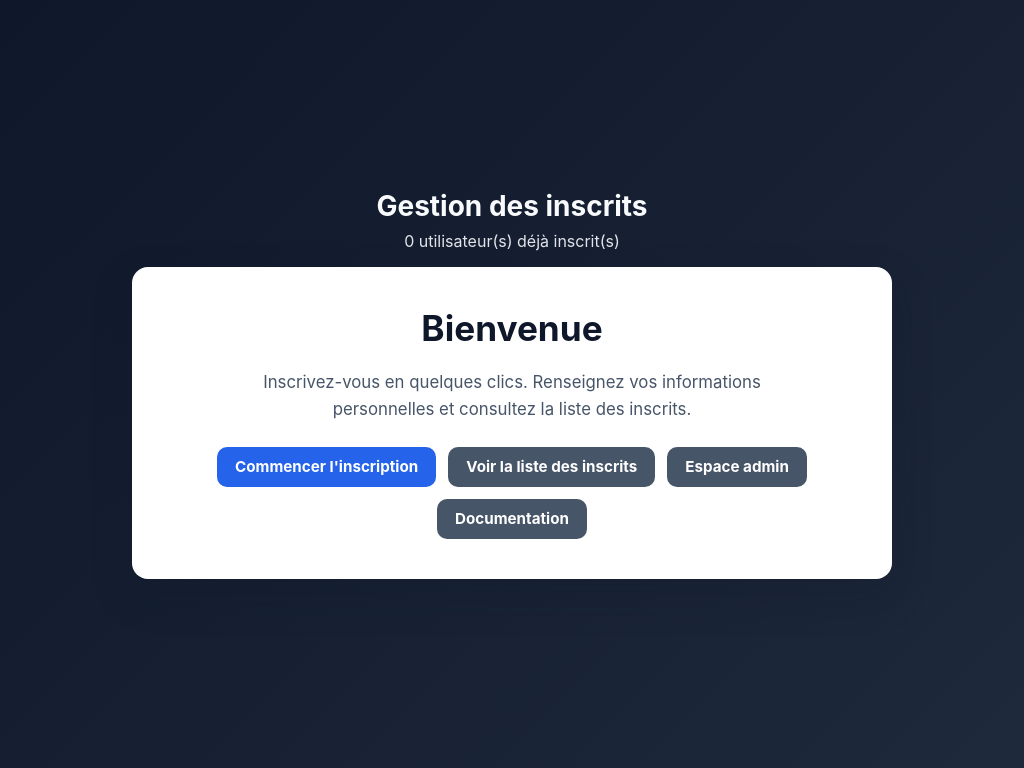
Liste des inscrits › affiche un message quand aucun inscrit n existe
Click the link with test id "go-to-list".
click(552, 467)  # box [448, 447, 655, 487]
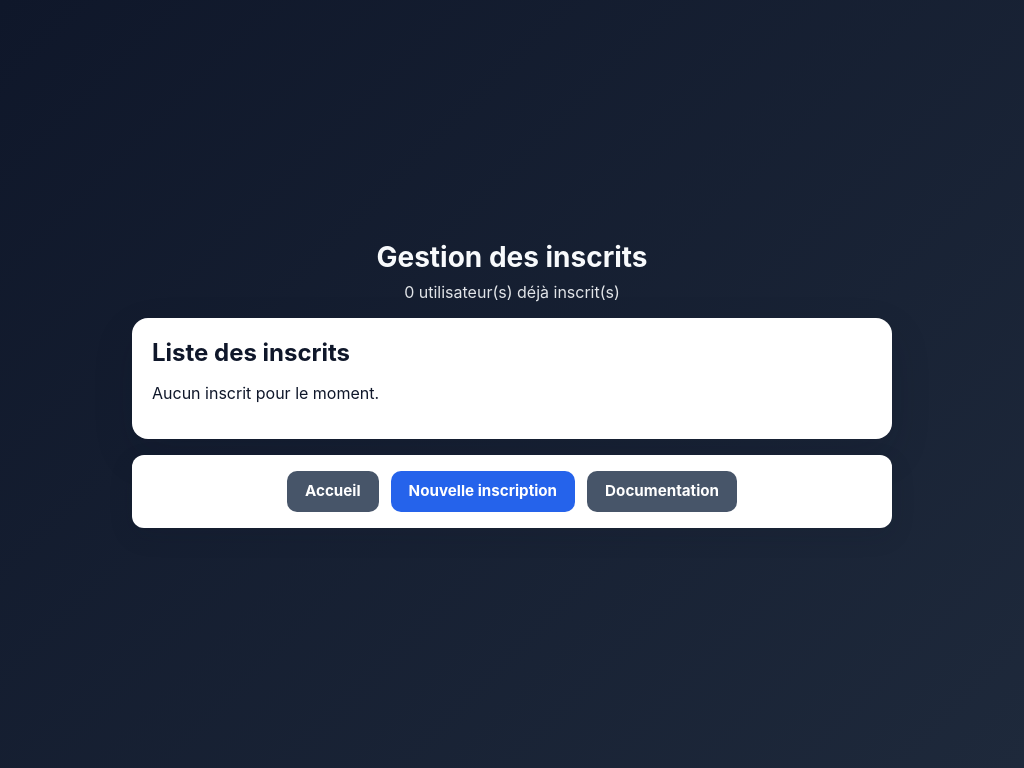
Now the element with test id "list-page" is shown, box [132, 318, 892, 527]
Now the text "Aucun inscrit pour le moment." is shown, box [152, 383, 379, 403]
Now the heading with test id "list-registrations-section" reads "Liste des inscrits", box [152, 338, 350, 367]
